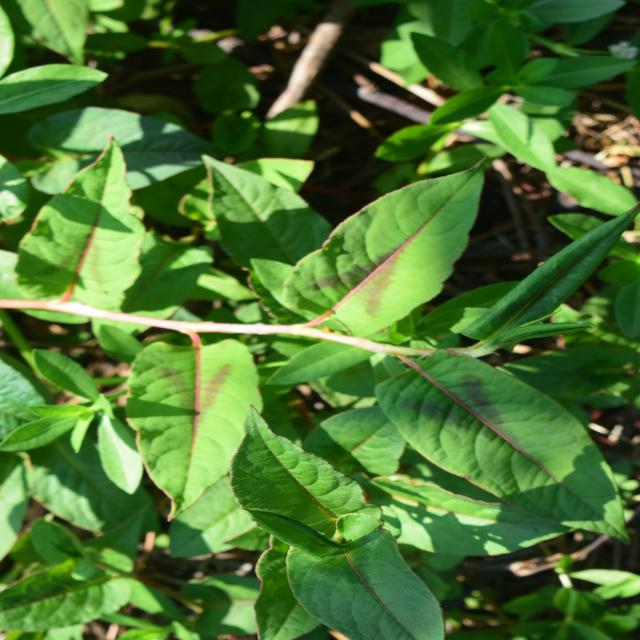Chinese_knotweed: (60, 119, 448, 570)
